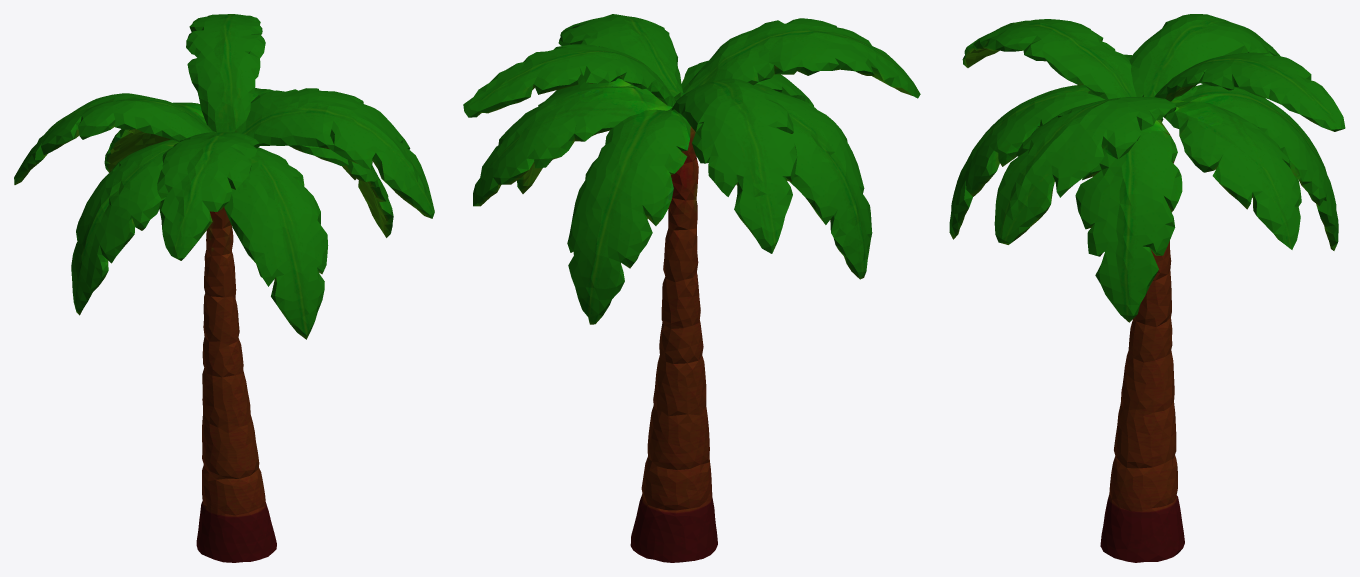
Rendered from palmtree_texture.obj.
The picture shows the model from 3 angles, left to right: view 1: azimuth 30°, elevation 25°; view 2: azimuth 150°, elevation 25°; view 3: azimuth 270°, elevation 25°; orthographic projection. The views are drawn at different scales.
Parts seen in each view (by area): view 1: palmtree_texture; view 2: palmtree_texture; view 3: palmtree_texture.
Boxes of the visible parts, left/top/right/bottom form: palmtree_texture: left=14, top=14, right=434, bottom=562; palmtree_texture: left=463, top=14, right=920, bottom=562; palmtree_texture: left=949, top=14, right=1345, bottom=562.
Size of the model in its own units: 0.649 by 0.9333 by 0.663.
Materials: 1 (1 with a texture image).
